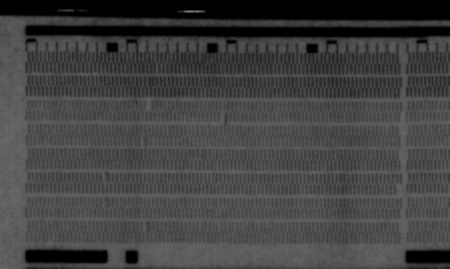Broken hole: (143, 99, 155, 114), (394, 183, 405, 197), (217, 111, 228, 124)
Oblique printing: (139, 221, 152, 234), (138, 136, 150, 148), (100, 171, 112, 183), (99, 196, 111, 208)
